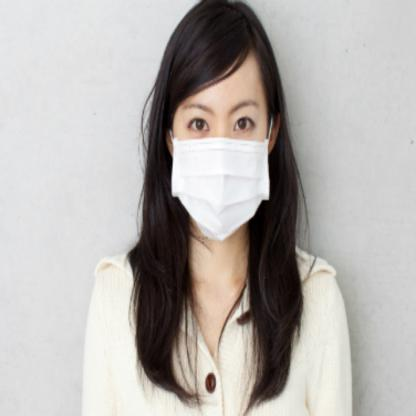Wearing_Mask: (171, 98, 270, 240)
